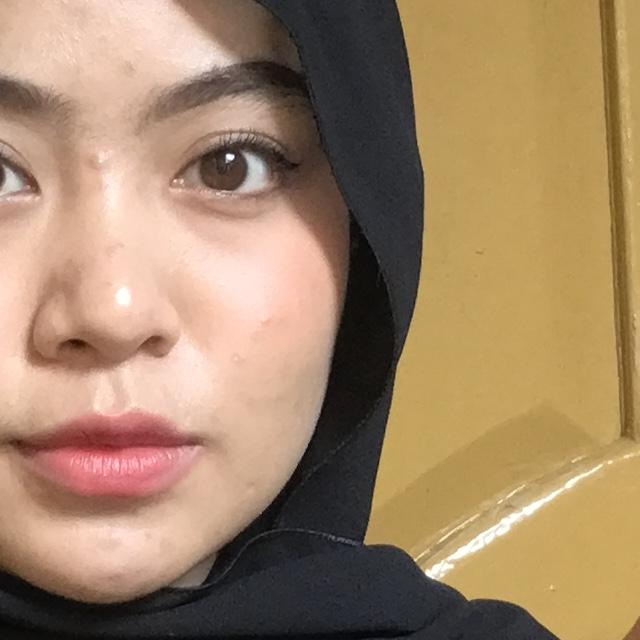kapan: (380, 166, 640, 640)
